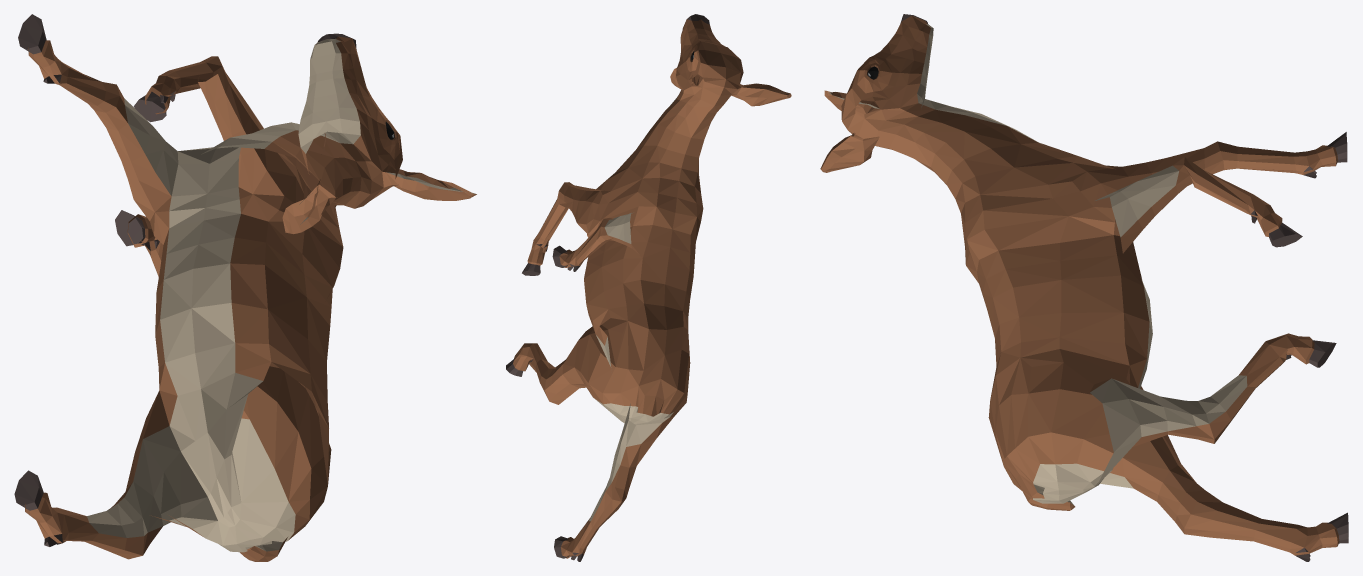
Rendered from deer-walk-1.glb.
3 renders of one model, left to right at view 1: azimuth 30°, elevation 25°; view 2: azimuth 150°, elevation 25°; view 3: azimuth 270°, elevation 25°, orthographic. The views are drawn at different scales.
Bounding box in the file's own units: 0.4811 × 1.65 × 1.4.
